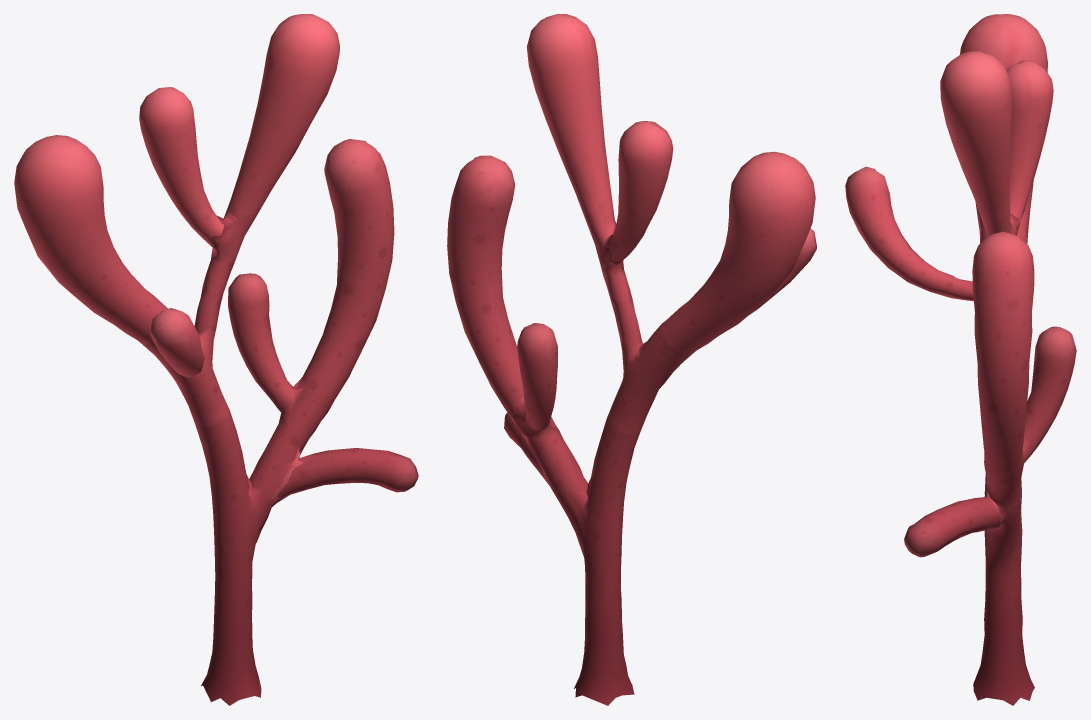
The model's file is coral.glb.
3 views of the same model, side by side, from view 1: azimuth 30°, elevation 25°; view 2: azimuth 150°, elevation 25°; view 3: azimuth 270°, elevation 25° (orthographic). The views are drawn at different scales.
Size of the model in its own units: 1 by 1.74 by 0.5458.
Materials: 1 (1 with a texture image).
